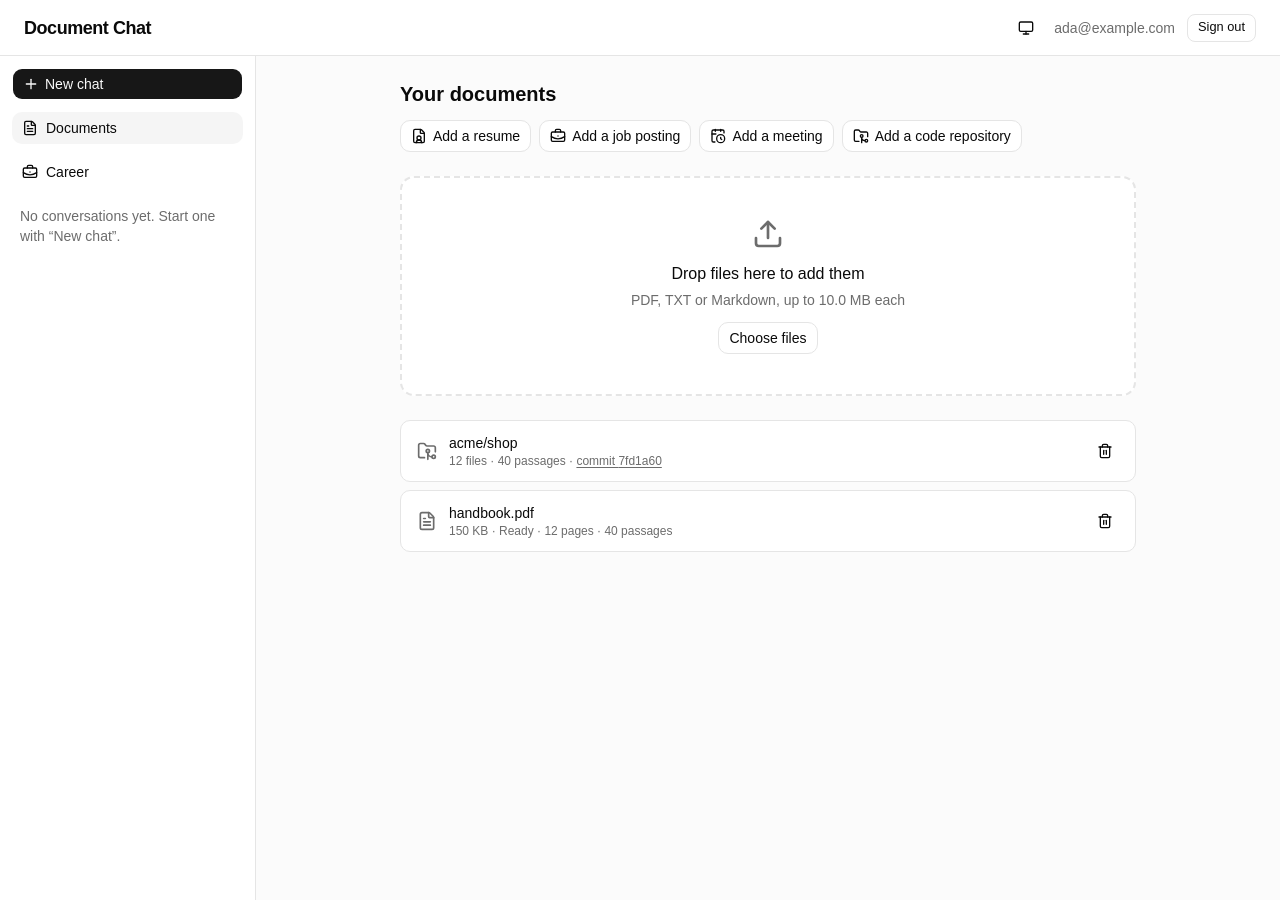
a repository in the library › managing it › is deleted like a document, after a confirmation
The width and height of the screenshot is (1280, 900).
Click the button named "Delete acme/shop". click: (1105,451)
box: [1091, 437, 1119, 465]
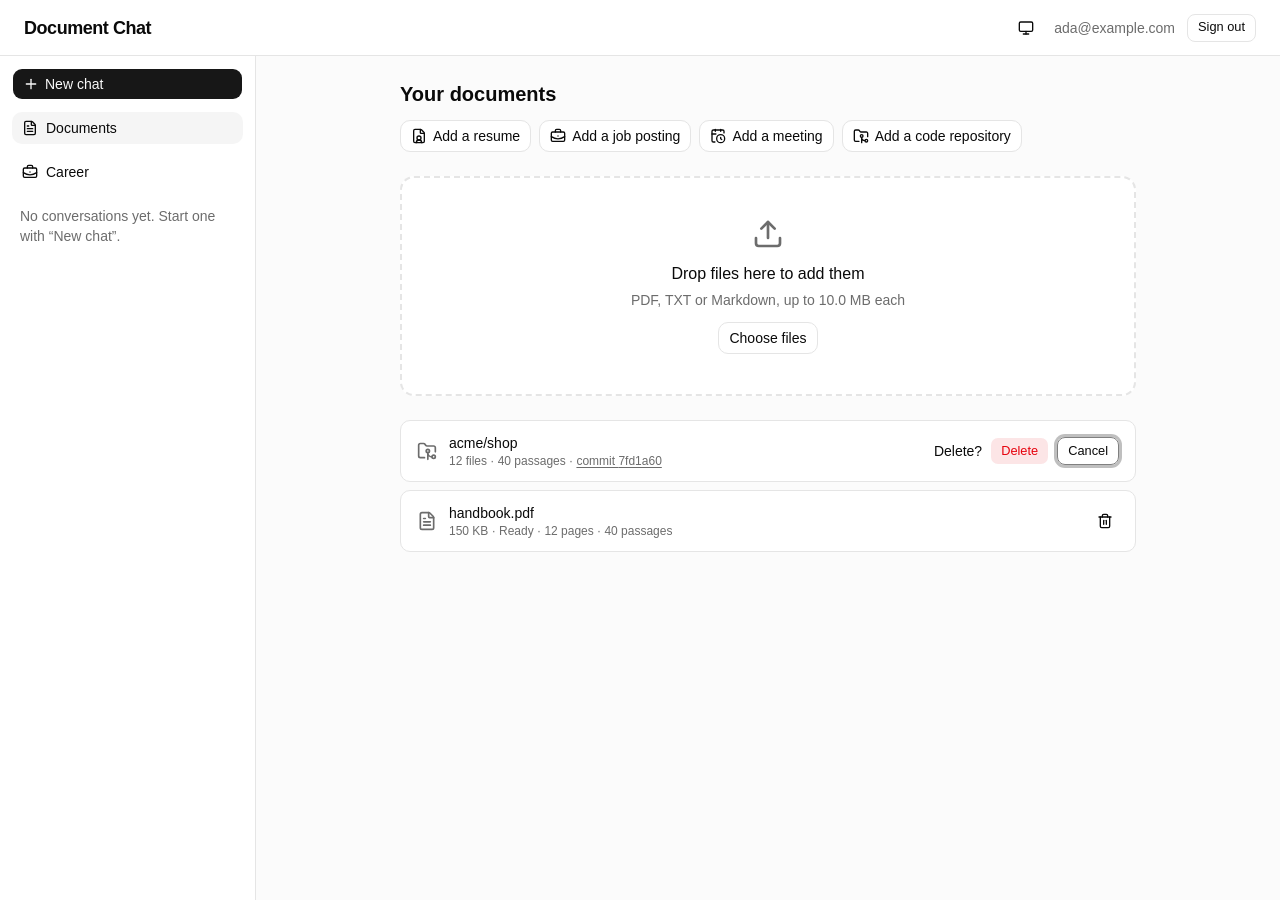
Click the button "Delete". click: (1020,451)
box: [990, 437, 1049, 465]
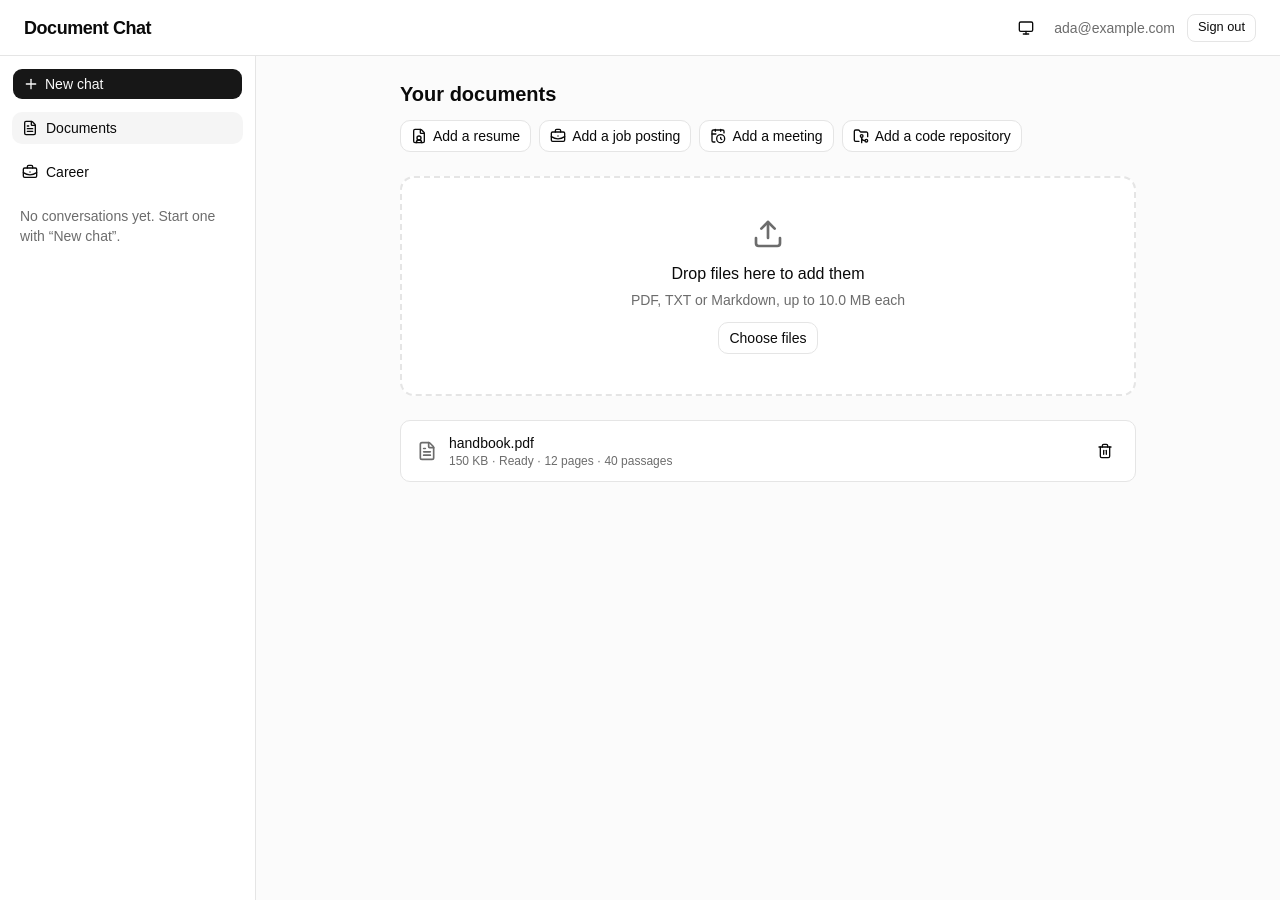
expect the text "handbook.pdf" is shown: met, box [449, 435, 534, 451]
expect the link "acme/shop" is gone: met
